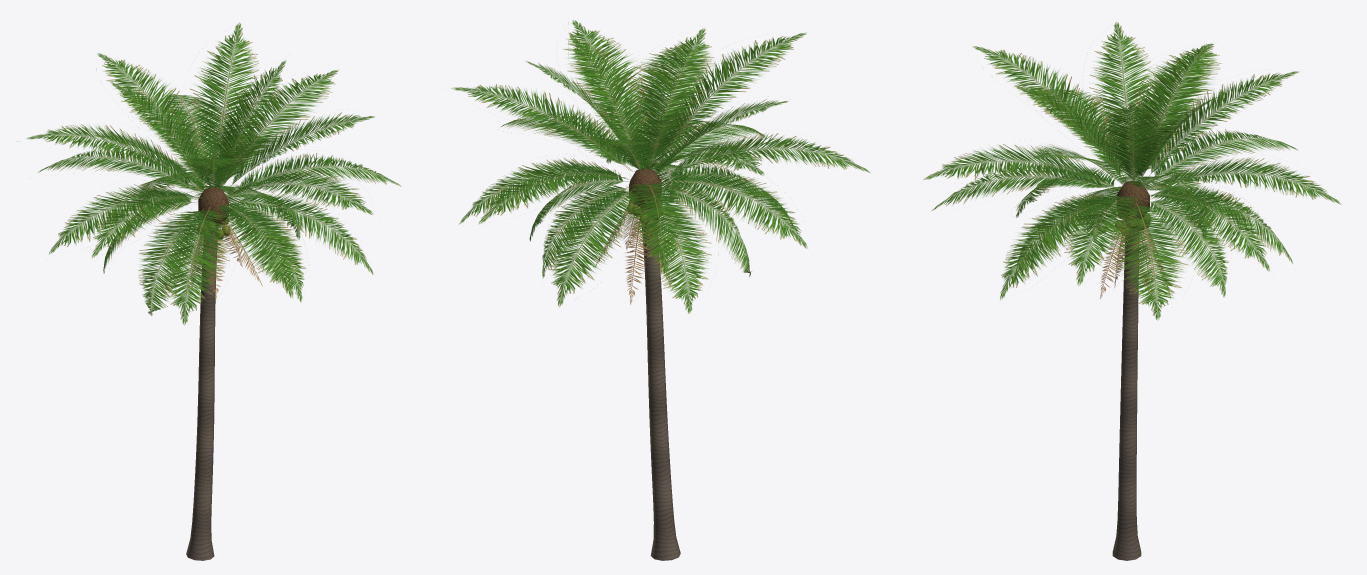
File: palm_coconut.glb
3 views of the same model, side by side, from view 1: azimuth 30°, elevation 25°; view 2: azimuth 150°, elevation 25°; view 3: azimuth 270°, elevation 25° (orthographic). The views are drawn at different scales.
Visible parts, largest first — view 1: palm_coconut; view 2: palm_coconut; view 3: palm_coconut.
Part boxes in pixels (bbox=[...]): palm_coconut: bbox=[26, 22, 401, 560]; palm_coconut: bbox=[451, 20, 869, 560]; palm_coconut: bbox=[923, 22, 1340, 560].
Bounding box in the file's own units: 10.05 × 13.42 × 10.54.
1 material, 1 textured.
